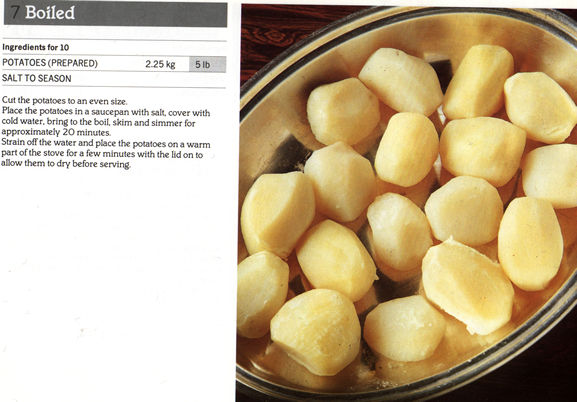boiled potatoes: (427, 244, 515, 326), (273, 298, 364, 363), (497, 201, 561, 290), (243, 174, 316, 250), (443, 119, 524, 182), (294, 228, 372, 293), (302, 145, 375, 214), (508, 71, 577, 143), (365, 192, 429, 268), (425, 181, 500, 245), (366, 48, 443, 109), (306, 81, 376, 146), (447, 48, 511, 116), (364, 295, 438, 352), (236, 257, 287, 339), (381, 110, 433, 188), (530, 142, 577, 207)
